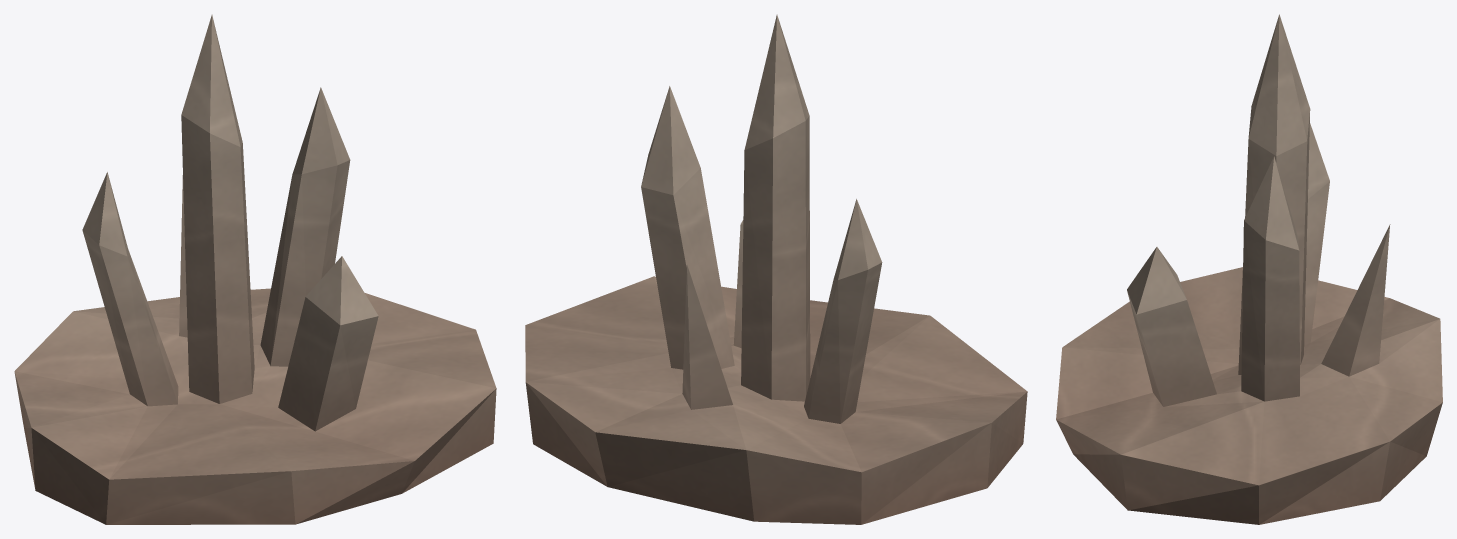
The model's file is crystal_quartz_spray.glb.
The picture shows the model from 3 angles, left to right: view 1: azimuth 30°, elevation 25°; view 2: azimuth 150°, elevation 25°; view 3: azimuth 270°, elevation 25°; orthographic projection. The views are drawn at different scales.
Visible parts, largest first — view 1: crystal_quartz_spray; view 2: crystal_quartz_spray; view 3: crystal_quartz_spray.
Boxes of the visible parts, bbox=[...] form: crystal_quartz_spray: bbox=[14, 14, 496, 524]; crystal_quartz_spray: bbox=[525, 14, 1027, 524]; crystal_quartz_spray: bbox=[1056, 14, 1442, 524].
Size of the model in its own units: 1.39 by 1.25 by 1.09.
Materials: 1 (1 with a texture image).
